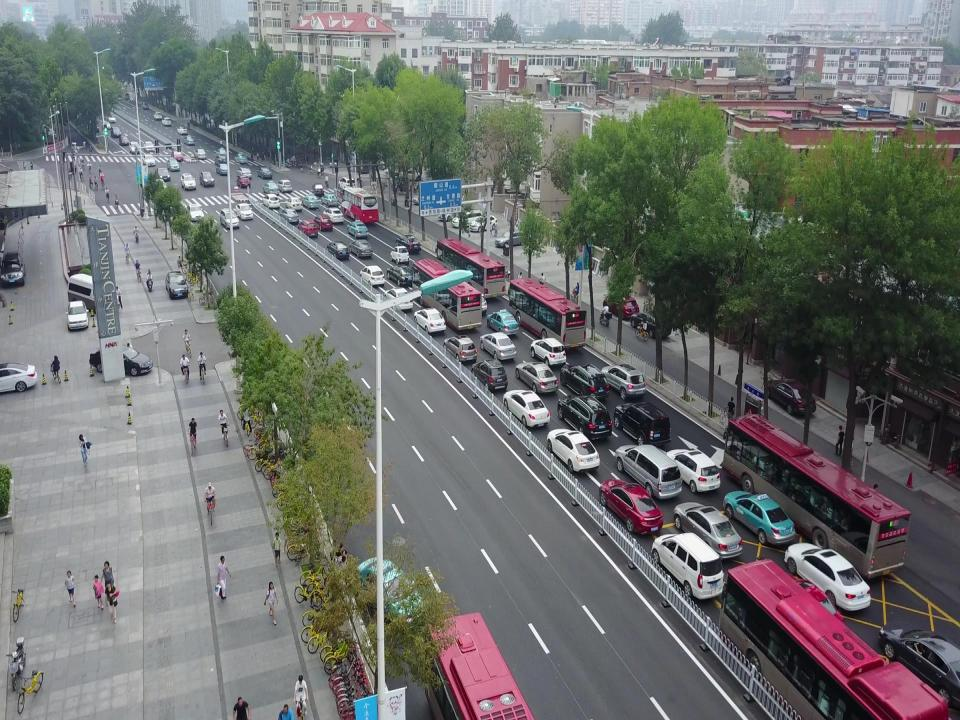bus: (718, 558, 956, 720), (722, 412, 912, 581), (508, 277, 586, 351), (412, 258, 482, 329), (434, 237, 504, 299), (341, 186, 379, 224)
car: (783, 541, 871, 615), (877, 622, 957, 699), (723, 489, 795, 545), (673, 501, 743, 558), (598, 478, 664, 536), (556, 393, 612, 441), (664, 448, 720, 493), (546, 427, 600, 473), (763, 377, 815, 416), (559, 361, 609, 401), (89, 346, 153, 376), (502, 388, 550, 428), (600, 363, 646, 399), (515, 360, 558, 394), (630, 309, 672, 342), (470, 358, 508, 392), (0, 361, 37, 394), (478, 331, 518, 360), (530, 336, 566, 366), (446, 335, 478, 364), (602, 293, 639, 318), (0, 251, 26, 285), (413, 308, 446, 334), (485, 309, 519, 334), (65, 300, 89, 330), (384, 288, 414, 312), (462, 288, 488, 315), (165, 270, 189, 298), (386, 265, 416, 286), (494, 230, 528, 247), (360, 265, 384, 287), (395, 233, 421, 253), (469, 214, 498, 231), (348, 240, 373, 258), (220, 207, 240, 229), (346, 219, 369, 238), (326, 240, 350, 258), (438, 205, 461, 222), (389, 245, 409, 264), (298, 219, 318, 238), (313, 214, 334, 231), (323, 207, 345, 223), (185, 204, 205, 221), (236, 203, 254, 220), (301, 193, 319, 209), (262, 193, 280, 209), (280, 208, 299, 223), (180, 173, 196, 190), (321, 192, 339, 207), (285, 196, 303, 210), (262, 181, 280, 195), (411, 192, 433, 203), (199, 171, 215, 186), (155, 166, 171, 181), (276, 179, 292, 193), (256, 166, 272, 179), (236, 166, 252, 179), (142, 152, 156, 166), (167, 158, 180, 171), (216, 164, 230, 176), (215, 147, 229, 159), (129, 140, 141, 154), (234, 153, 248, 164), (312, 183, 324, 195), (214, 155, 228, 165), (194, 148, 206, 159), (171, 149, 183, 160), (143, 141, 155, 152), (183, 135, 195, 145), (177, 126, 187, 135), (120, 135, 129, 145), (153, 111, 163, 120), (101, 120, 111, 129), (107, 114, 117, 123)
van: (650, 532, 725, 605), (614, 443, 682, 498), (614, 402, 670, 446), (66, 272, 120, 315), (452, 209, 482, 228), (338, 177, 356, 190), (237, 175, 251, 188), (110, 126, 122, 138), (162, 116, 172, 127)
